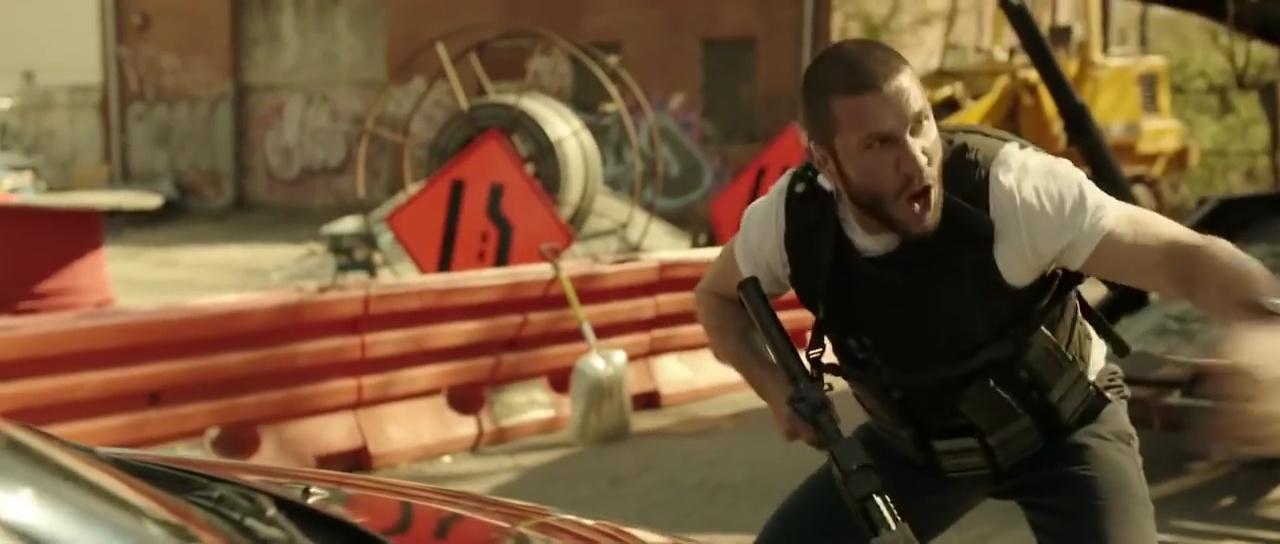Gun: (725, 268, 910, 536)
